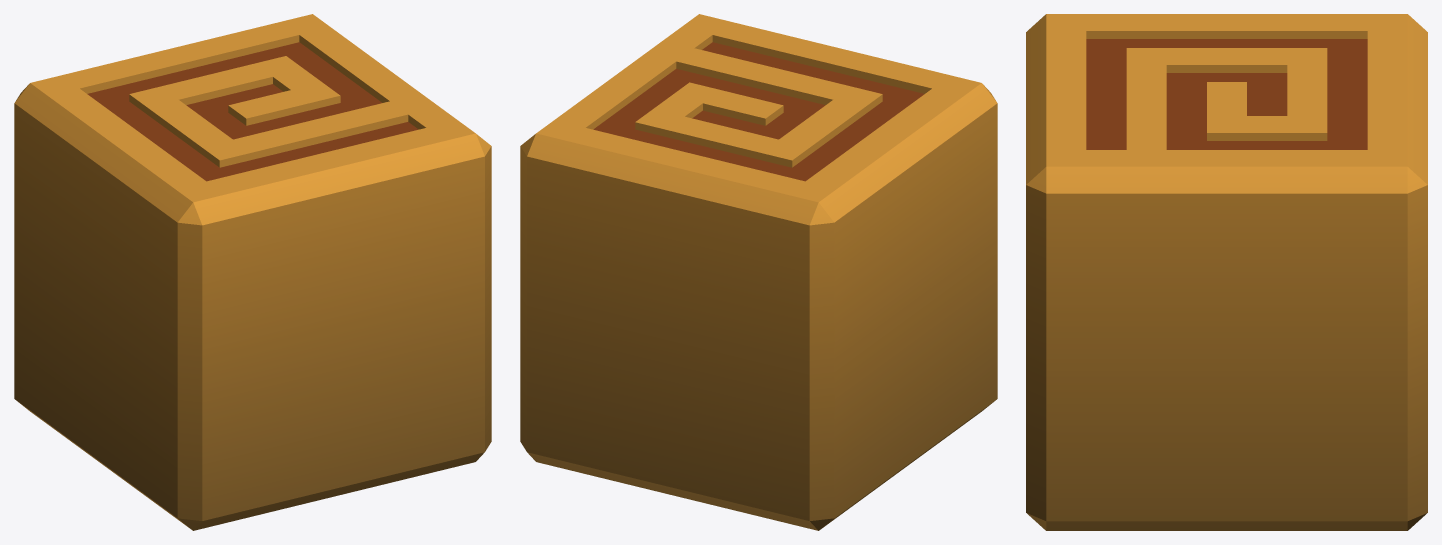
Rendered from Tile_Snake_Tail_Gold.fbx.
The picture shows the model from 3 angles, left to right: view 1: azimuth 30°, elevation 25°; view 2: azimuth 150°, elevation 25°; view 3: azimuth 270°, elevation 25°; orthographic projection. The views are drawn at different scales.
Parts seen in each view (by area): view 1: Tile Buntut Emas; view 2: Tile Buntut Emas; view 3: Tile Buntut Emas.
Boxes of the visible parts, <box> form: Tile Buntut Emas: <box>14,14,491,530</box>; Tile Buntut Emas: <box>520,14,997,530</box>; Tile Buntut Emas: <box>1026,14,1427,530</box>.
Size of the model in its own units: 1 by 1 by 1.
Materials: 1 (1 with a texture image).
